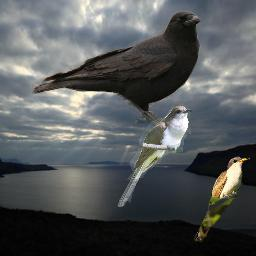Crow: (32, 10, 201, 132)
Cuckoo: (117, 105, 192, 207), (193, 155, 251, 243)
